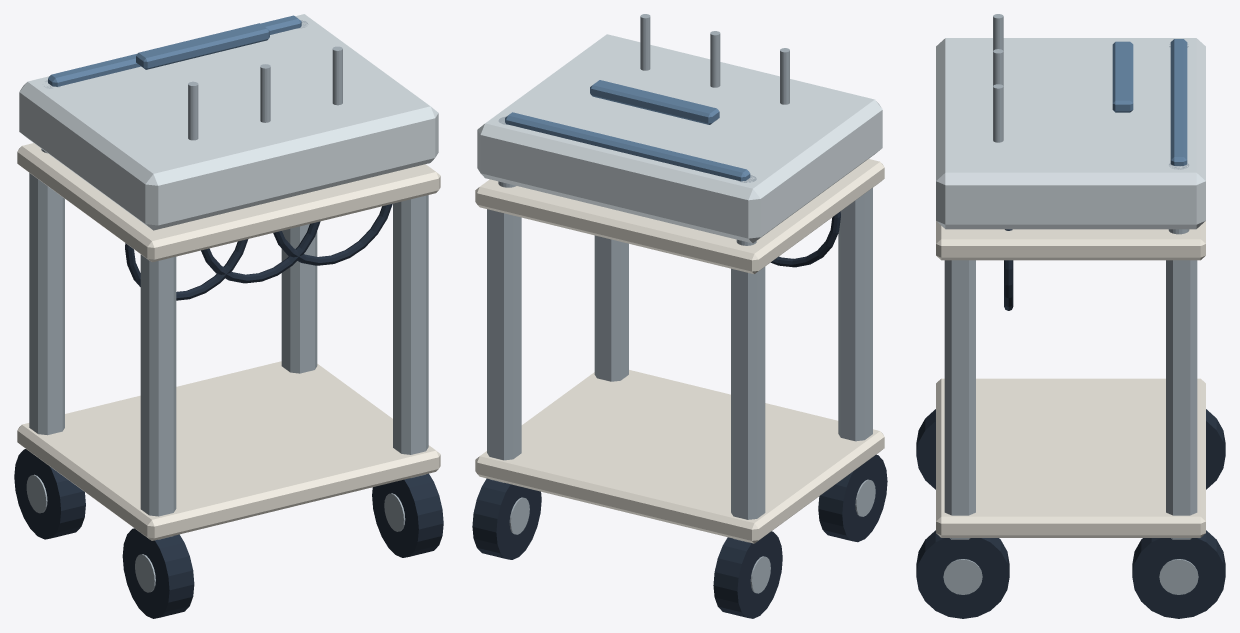
Rendered from clinic_09.glb.
3 views of the same model, side by side, from view 1: azimuth 30°, elevation 25°; view 2: azimuth 150°, elevation 25°; view 3: azimuth 270°, elevation 25° (orthographic). The views are drawn at different scales.
Visible parts, largest first — view 1: Shelf (×2), InstrumentPanel, Leg (×4), Wheel (×3), InstrumentHose (×3), ControlGrip, DentalHandpiece (×3), WheelHub (×3), PushHandle; view 2: Shelf (×2), InstrumentPanel, Leg (×4), Wheel (×3), PushHandle, ControlGrip, DentalHandpiece (×3), WheelHub (×3), InstrumentHose; view 3: InstrumentPanel, Shelf (×2), Leg (×2), Wheel (×4), WheelHub (×2), PushHandle, ControlGrip, DentalHandpiece, InstrumentHose.
Part boxes in pixels (box(x1,y1,x2,y2)): Shelf (×2): box(17, 143, 440, 540); InstrumentPanel: box(19, 14, 438, 230); Leg (×4): box(29, 173, 428, 539); Wheel (×3): box(14, 449, 443, 618); InstrumentHose (×3): box(125, 203, 392, 300); ControlGrip: box(136, 23, 269, 69); DentalHandpiece (×3): box(188, 46, 342, 140); WheelHub (×3): box(26, 474, 405, 592); PushHandle: box(48, 15, 301, 86); Shelf (×2): box(475, 159, 884, 543); InstrumentPanel: box(477, 34, 882, 243); Leg (×4): box(487, 188, 872, 542); Wheel (×3): box(472, 454, 887, 618); PushHandle: box(505, 112, 750, 181); ControlGrip: box(590, 80, 719, 124); DentalHandpiece (×3): box(640, 14, 789, 104); WheelHub (×3): box(509, 479, 875, 593); InstrumentHose: box(771, 211, 840, 267); InstrumentPanel: box(936, 38, 1205, 229); Shelf (×2): box(936, 221, 1205, 537); Leg (×2): box(944, 260, 1197, 539); Wheel (×4): box(916, 409, 1225, 618); WheelHub (×2): box(943, 559, 1198, 594); PushHandle: box(1170, 39, 1187, 165); ControlGrip: box(1112, 41, 1133, 112); DentalHandpiece: box(993, 84, 1003, 142); InstrumentHose: box(1004, 229, 1013, 310).
Size of the model in its own units: 0.65 by 1.07 by 0.596.
